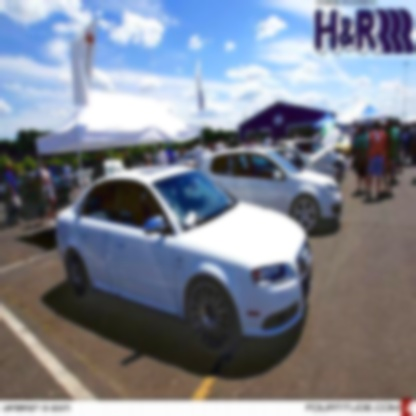Vehicle: (56, 164, 314, 359)
